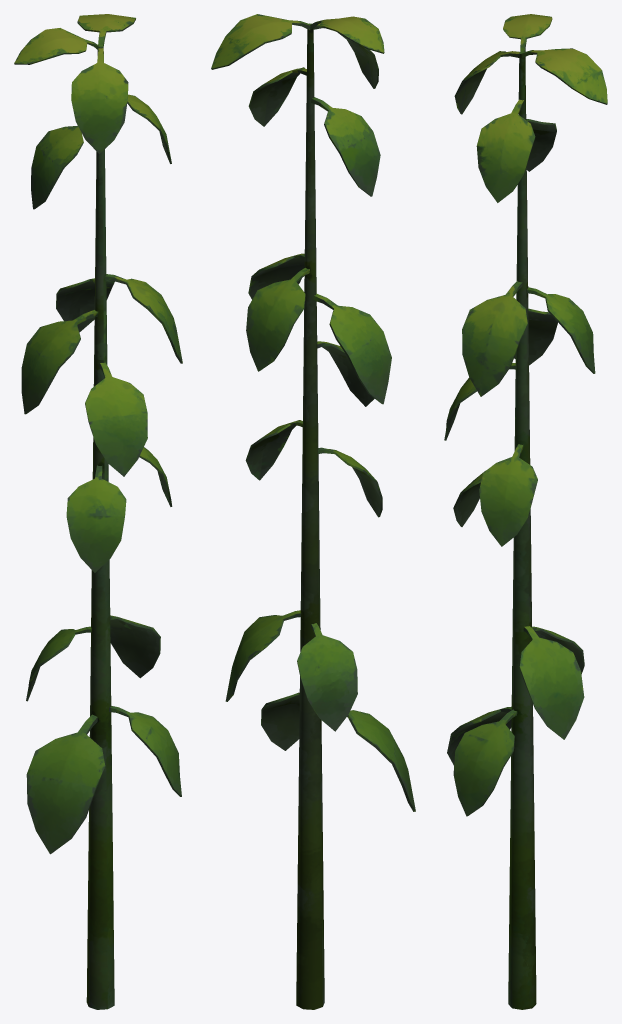
The model's file is plants3.fbx.
3 views of the same model, side by side, from view 1: azimuth 30°, elevation 25°; view 2: azimuth 150°, elevation 25°; view 3: azimuth 270°, elevation 25° (orthographic). The views are drawn at different scales.
Visible parts, largest first — view 1: Cube.001_Cube.004; view 2: Cube.001_Cube.004; view 3: Cube.001_Cube.004.
Part boxes in pixels (x1=…): Cube.001_Cube.004: x1=14, y1=14, x2=182, y2=1009; Cube.001_Cube.004: x1=211, y1=14, x2=415, y2=1009; Cube.001_Cube.004: x1=444, y1=14, x2=607, y2=1009.
Size of the model in its own units: 44.78 by 279 by 42.72.
Materials: 1 (1 with a texture image).
